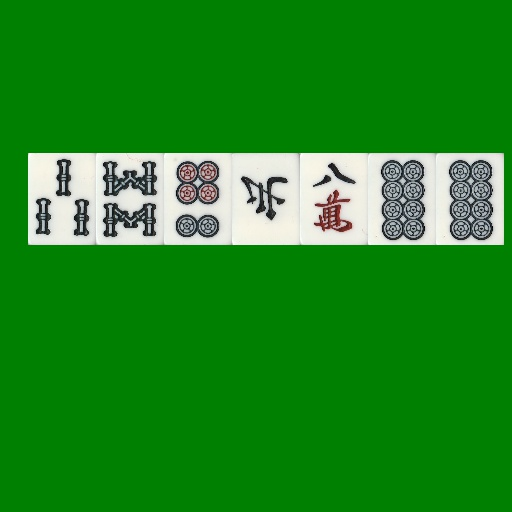3s: (28, 153, 96, 245)
6p: (164, 153, 232, 245)
8m: (300, 153, 368, 245)
8p: (368, 153, 436, 245), (436, 153, 504, 245)
8s: (96, 153, 164, 245)
north: (232, 153, 300, 245)
